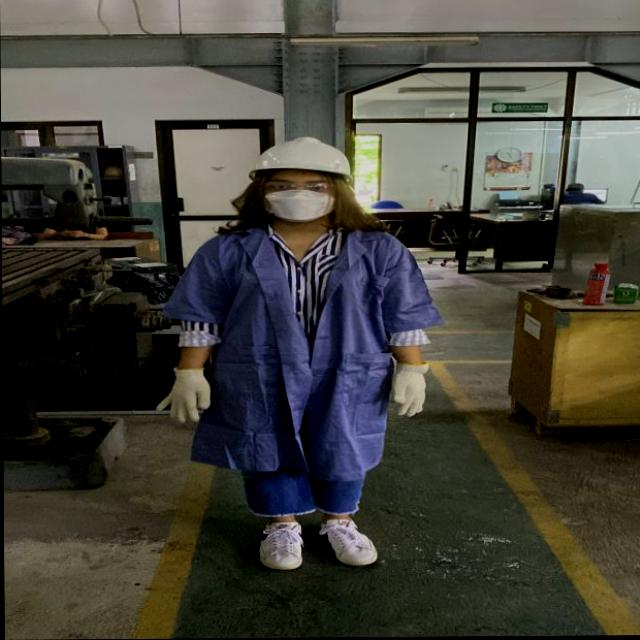Gloves: (154, 366, 210, 424), (388, 362, 429, 418)
Helmet: (247, 134, 352, 183)
Safety-Boot: (317, 516, 376, 567), (257, 520, 303, 570)
Safety-Vest: (266, 224, 346, 338)
